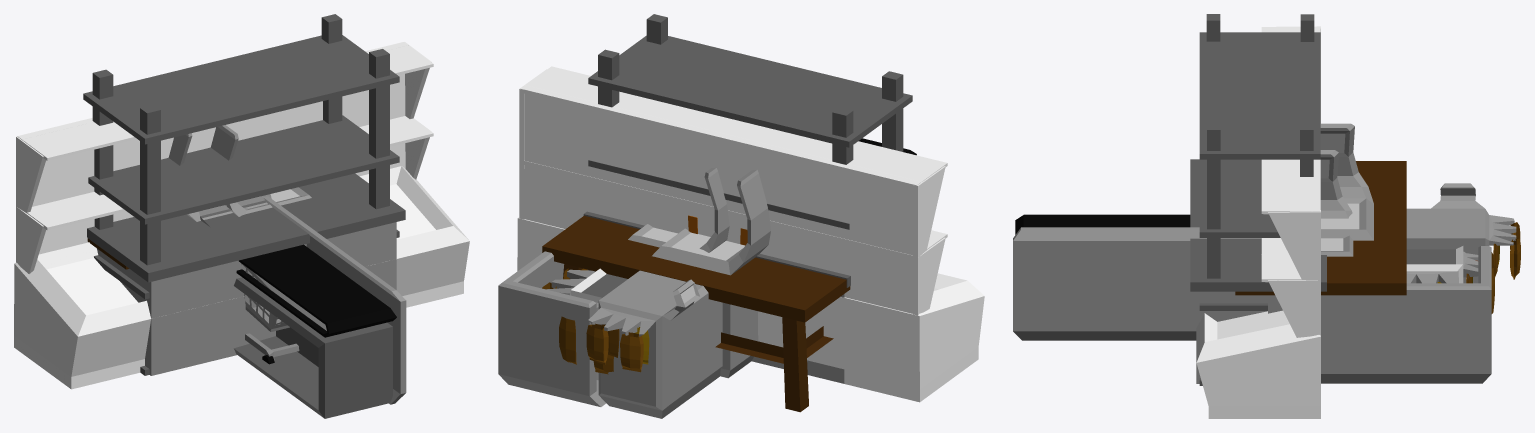
Rendered from GROCERY_PROPS.fbx.
3 renders of one model, left to right at view 1: azimuth 30°, elevation 25°; view 2: azimuth 150°, elevation 25°; view 3: azimuth 270°, elevation 25°, orthographic. The views are drawn at different scales.
Visible parts, largest first — view 1: BACK_SHELF, COUNTER, CHECKOUT, MEAT_COOLER, SHELF_DEF, CART, SELF_CHECK; view 2: SHELF_DEF, CHECKOUT, BACK_SHELF, MEAT_COOLER, TABLE, SELF_CHECK, COUNTER; view 3: CHECKOUT, BACK_SHELF, MEAT_COOLER, SHELF_DEF, TABLE, COUNTER, SELF_CHECK.
Part boxes in pixels (left/top/right/bottom): BACK_SHELF: left=83, top=14, right=399, bottom=375; COUNTER: left=87, top=173, right=405, bottom=375; CHECKOUT: left=168, top=133, right=406, bottom=418; MEAT_COOLER: left=14, top=166, right=469, bottom=389; SHELF_DEF: left=16, top=42, right=433, bottom=273; CART: left=199, top=194, right=317, bottom=364; SELF_CHECK: left=210, top=125, right=311, bottom=216; SHELF_DEF: left=519, top=66, right=947, bottom=315; CHECKOUT: left=498, top=138, right=916, bottom=418; BACK_SHELF: left=588, top=14, right=912, bottom=229; MEAT_COOLER: left=517, top=217, right=984, bottom=402; TABLE: left=542, top=215, right=850, bottom=412; SELF_CHECK: left=542, top=167, right=729, bottom=380; COUNTER: left=583, top=211, right=850, bottom=383; CHECKOUT: left=1013, top=123, right=1520, bottom=383; BACK_SHELF: left=1199, top=14, right=1320, bottom=385; MEAT_COOLER: left=1196, top=310, right=1320, bottom=418; SHELF_DEF: left=1261, top=26, right=1320, bottom=337; TABLE: left=1235, top=161, right=1406, bottom=295; COUNTER: left=1190, top=159, right=1326, bottom=383; SELF_CHECK: left=1261, top=150, right=1494, bottom=313.
Size of the model in its own units: 805 by 507 by 922.
